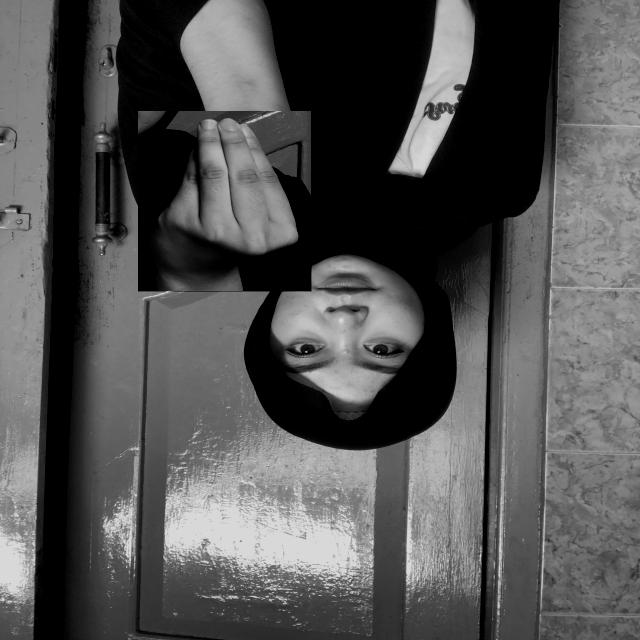kapan: (138, 111, 312, 292)
